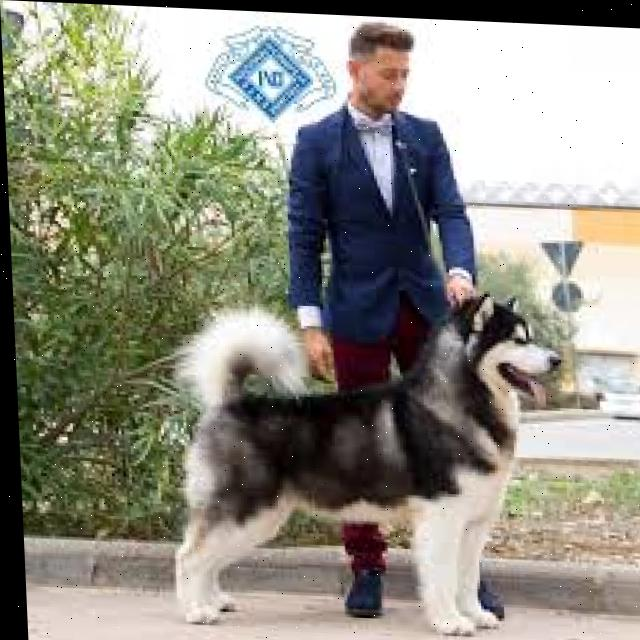ALASKAN_MALAMUTE: (144, 266, 572, 640)
